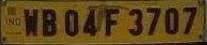character: (23, 7, 38, 37), (127, 8, 143, 36), (145, 7, 161, 35), (182, 6, 198, 34), (41, 8, 56, 36), (104, 8, 119, 35), (64, 8, 78, 36), (82, 9, 96, 37), (164, 7, 178, 35)
